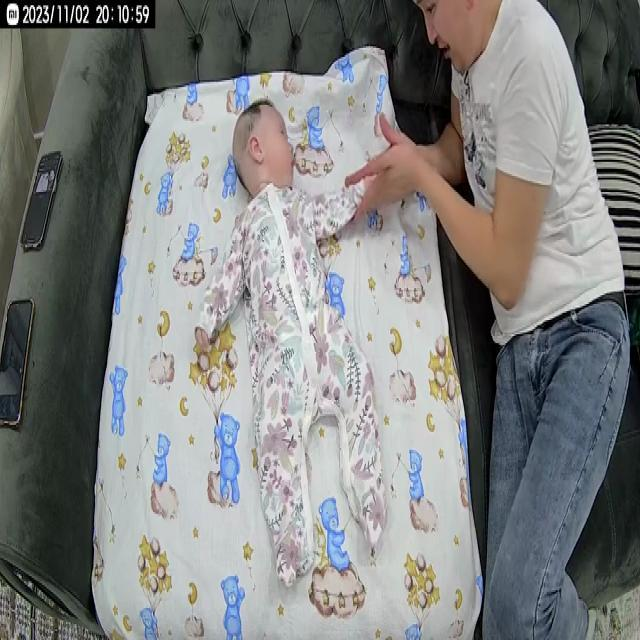baby: (186, 98, 394, 590)
